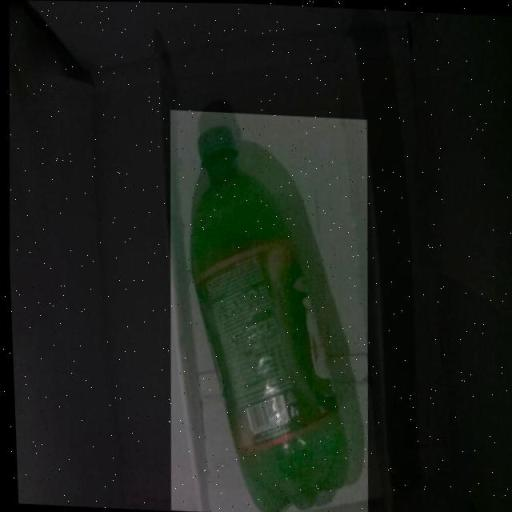plastic: (155, 109, 378, 512)
